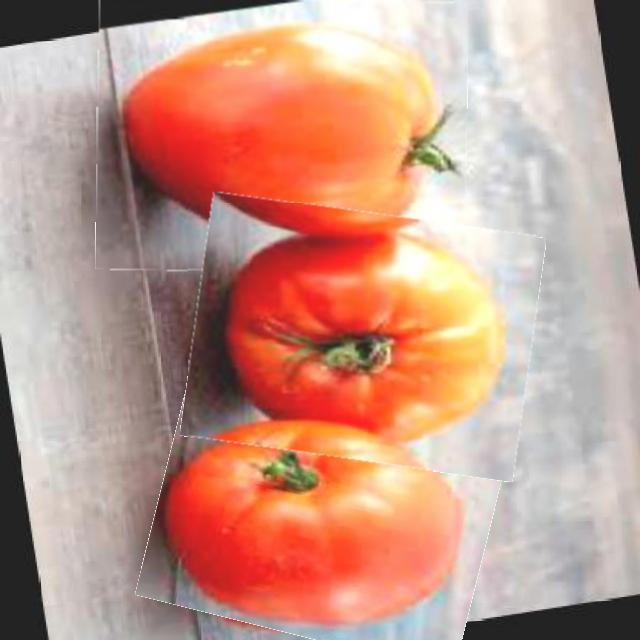tomato: (96, 0, 467, 273), (188, 204, 538, 472), (147, 375, 500, 640)
